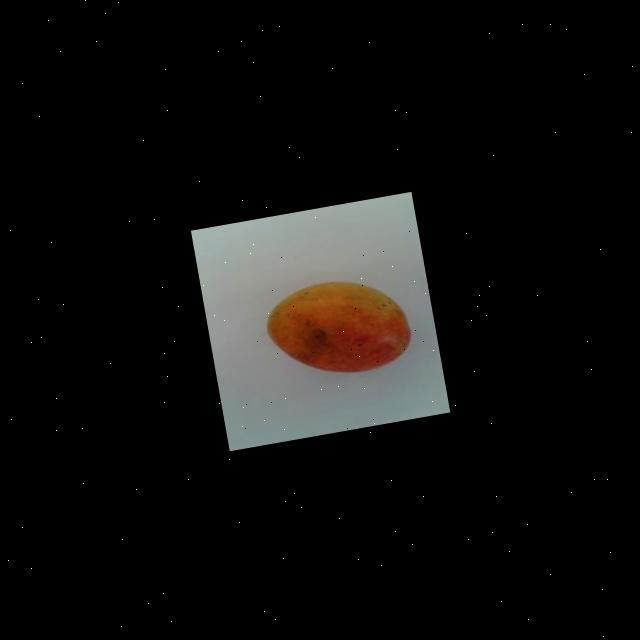Mango: (260, 268, 414, 386)
